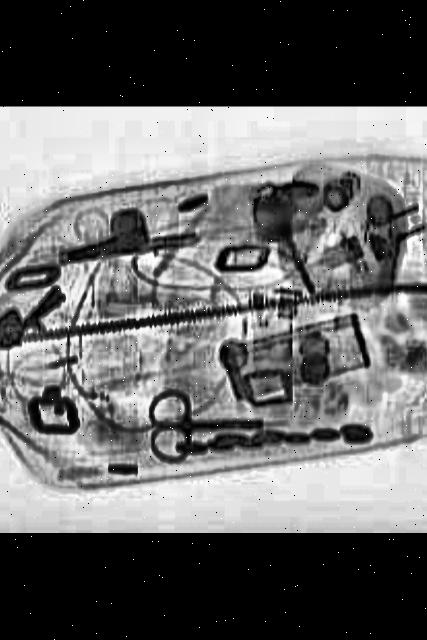Scissors: (144, 391, 262, 466)
